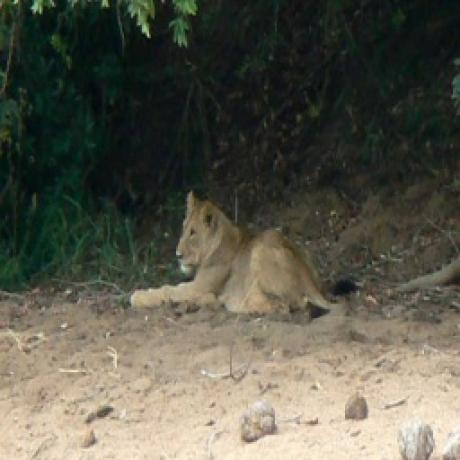Lion: (128, 190, 361, 317)
